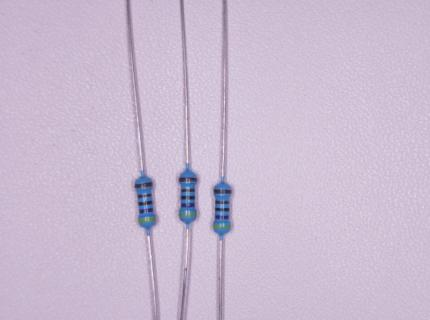Black band: (138, 200, 153, 206), (215, 208, 229, 212), (181, 196, 195, 199)
Brown band: (134, 182, 153, 188), (137, 193, 152, 199), (214, 189, 231, 194), (179, 178, 197, 182), (215, 200, 230, 204), (181, 188, 195, 192)
Violet band: (138, 208, 153, 213), (215, 215, 229, 219), (181, 203, 195, 207)
Yellow band: (139, 218, 156, 223), (179, 213, 197, 217), (213, 225, 231, 229)
